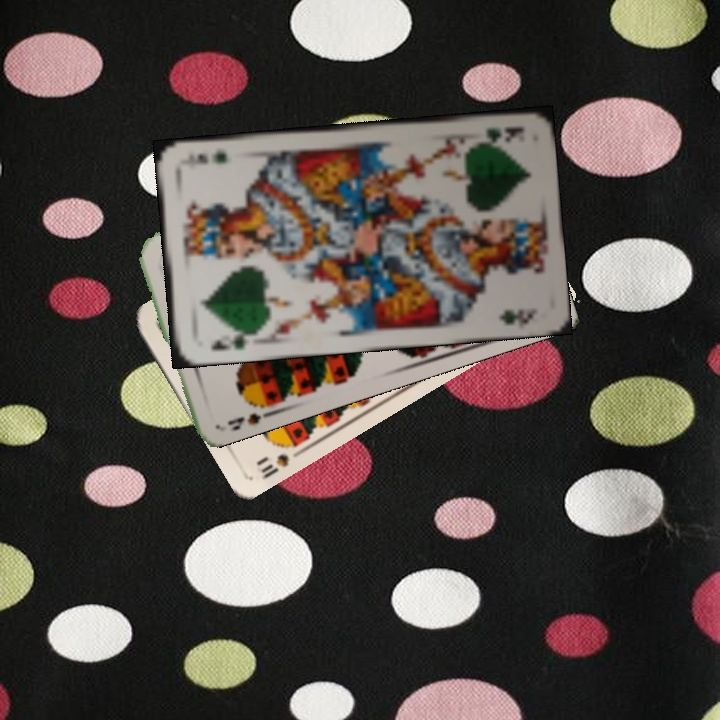GK: (470, 122, 526, 147), (207, 327, 254, 354)
S10: (257, 437, 305, 481)
S9: (223, 394, 277, 433)
